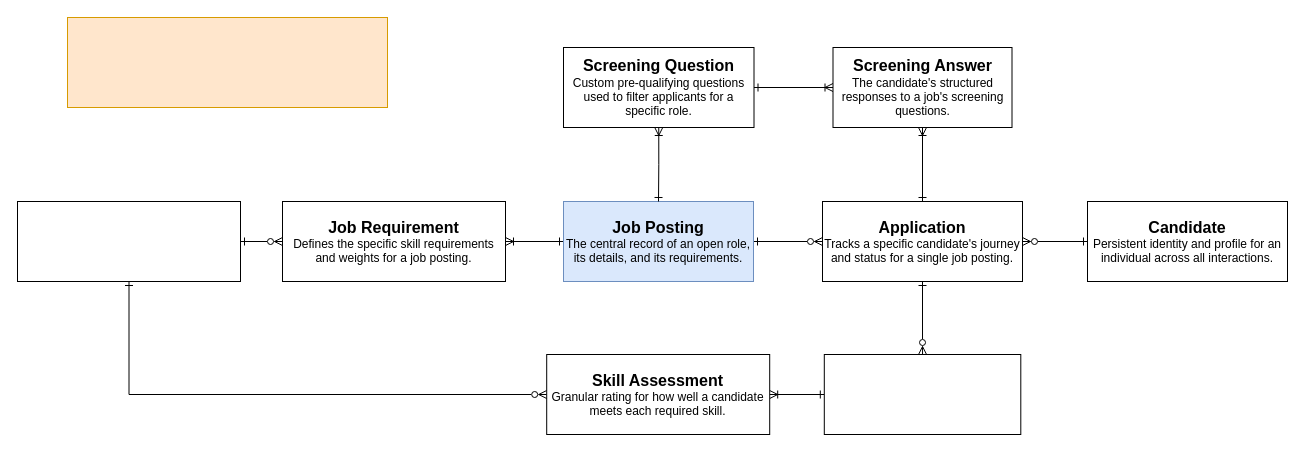
This 1305x452 diagram has some shape labels left out. The shapes that lost their labels are listed below. From the top down, each one's centre as x and y in pixels, then its label:
At pixel 227 62: "QualifAI ERD https://aka.ms/QualifAI".
At pixel 128 241: "Skill Global library of standardized competencies and qualifications.".
At pixel 922 394: "Application Evaluation Summary and overall fit score for an application.".
